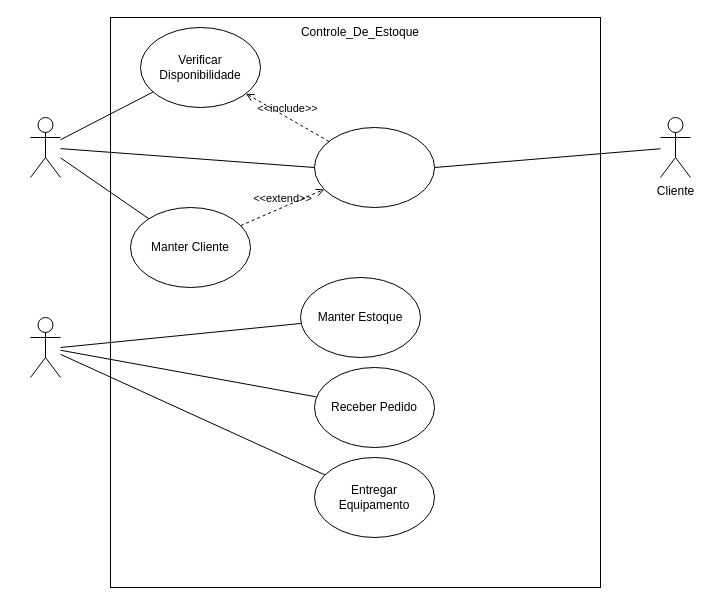
Image size: 711x605. Some labels were removed from this diagram. Each missing label, with the box of its shape:
Atendente: (30, 116, 60, 178)
Estoquista: (30, 316, 60, 378)
Registrar Pedido: (314, 126, 434, 208)
